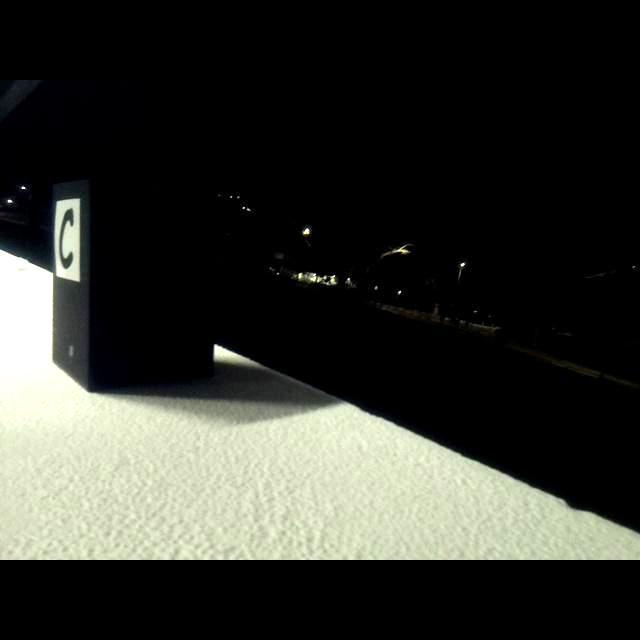C: (59, 208, 74, 270)
